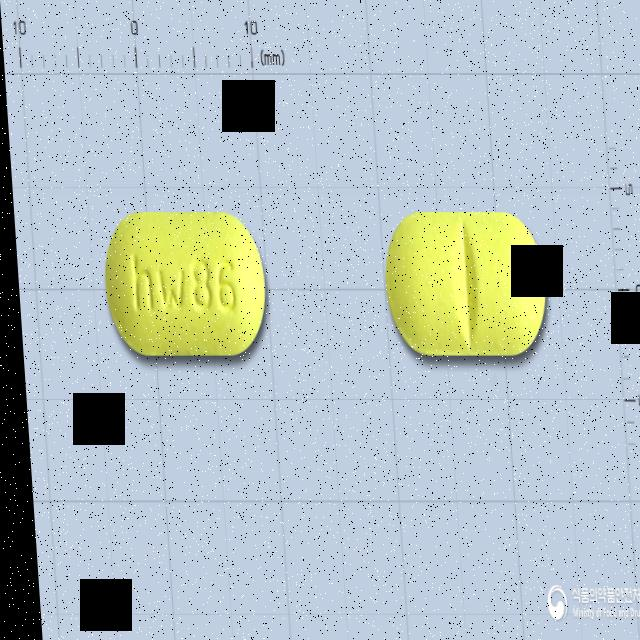Ceclacin: (97, 208, 265, 359), (379, 208, 546, 357)
